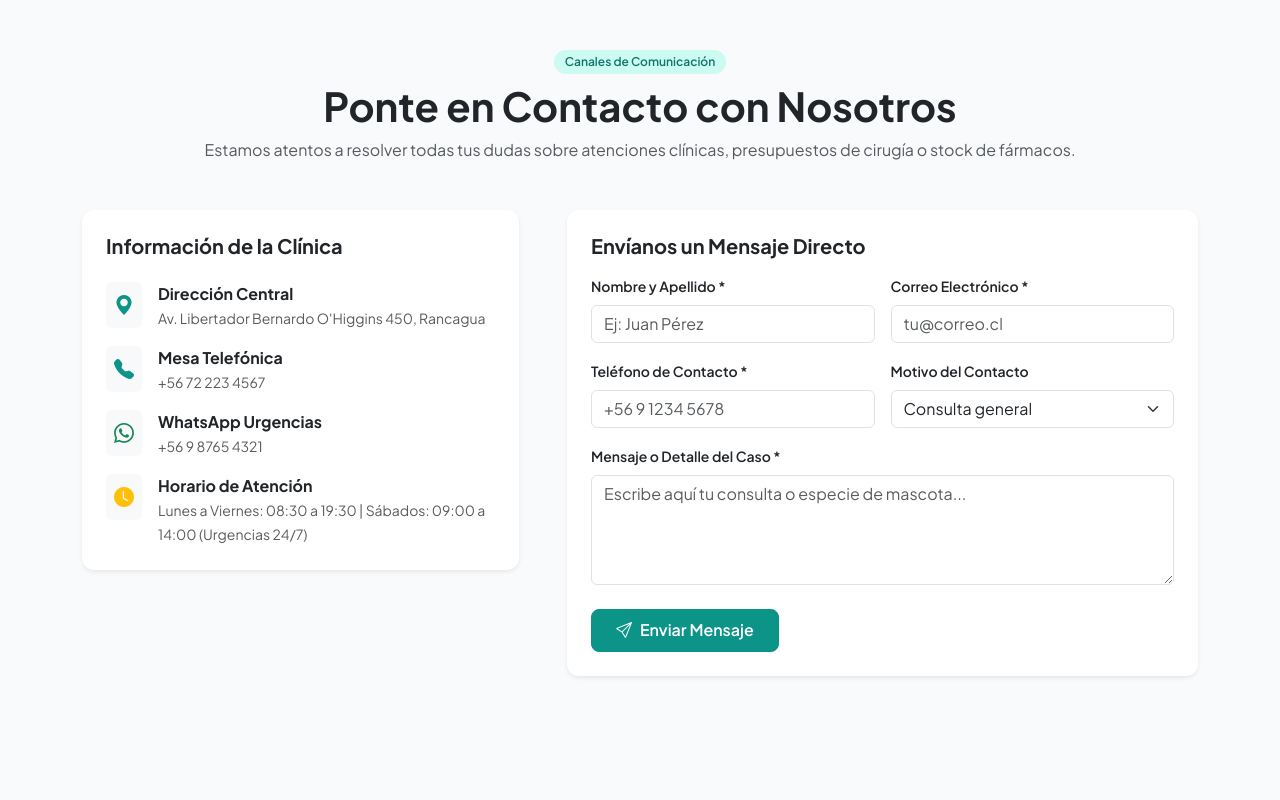
it: Formularios, Validaciones y Eventos › 8. Contact valida longitud mínima del mensaje de consulta
Type "Juan Silva" into the field with placeholder "Ej: Juan Pérez" at [733, 324], box [591, 305, 874, 343]
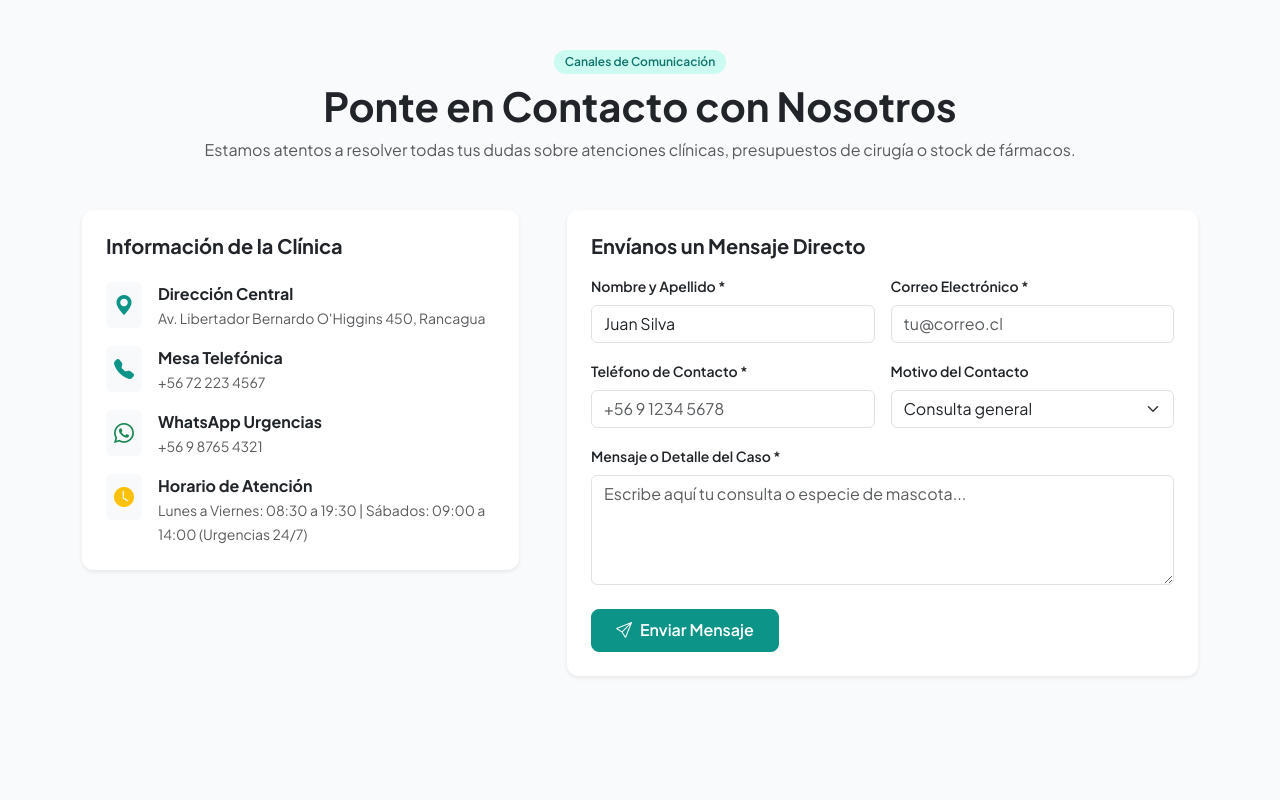
Type "juan@test.cl" into the field with placeholder "tu@correo.cl" at [1032, 324], box [890, 305, 1174, 343]
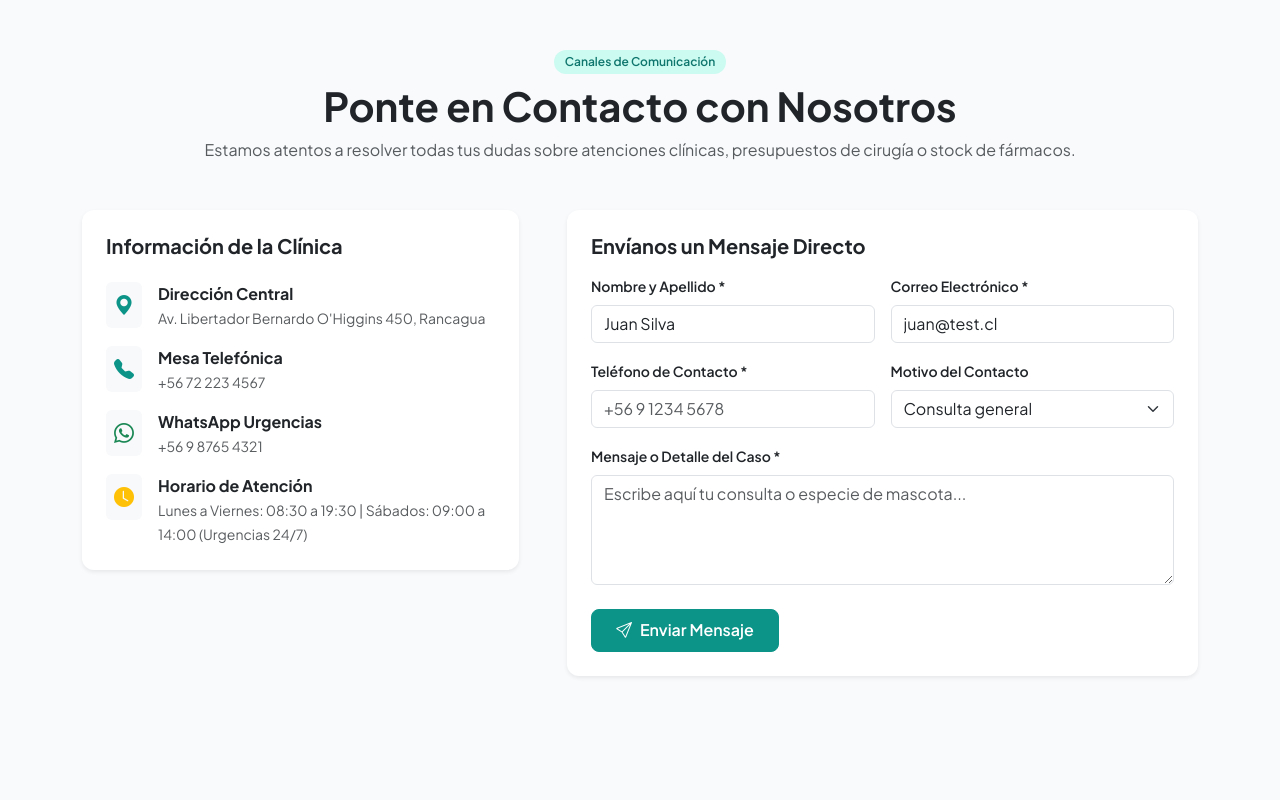
Type "+56911223344" into the field with placeholder "+56 9 1234 5678" at [733, 409], box [591, 390, 874, 428]
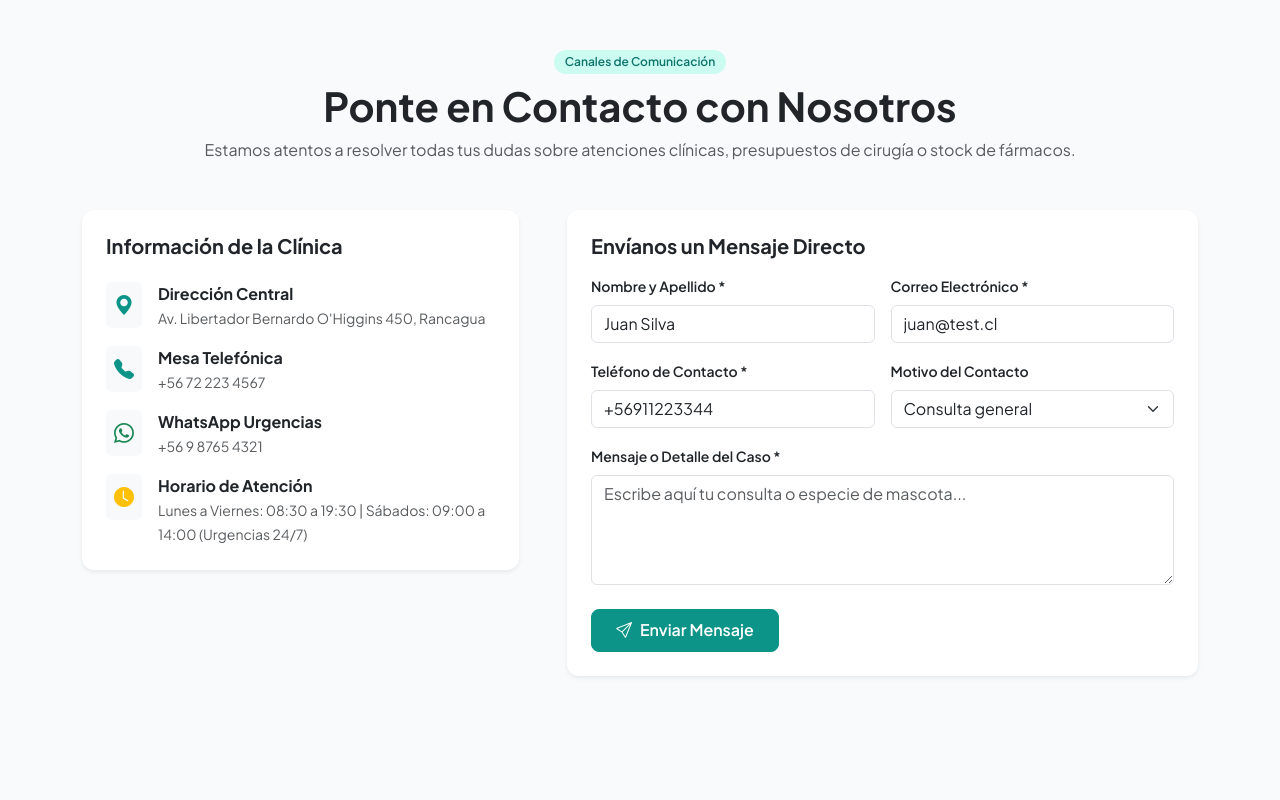
Type "Hola" into the text box with placeholder "Escribe aquí tu consulta o especie de mascota..." at [882, 530], box [591, 475, 1174, 585]
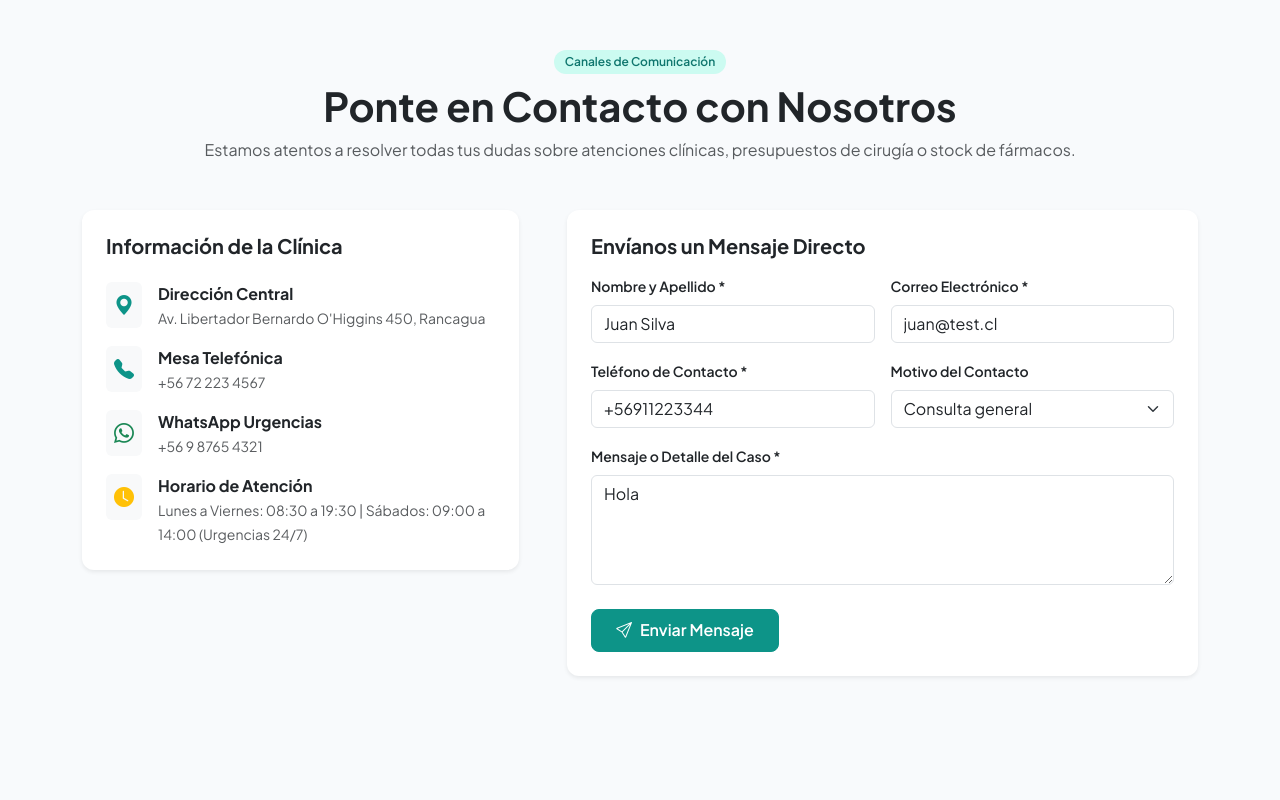
Click the button "Enviar Mensaje" at [685, 630], box [591, 609, 779, 652]
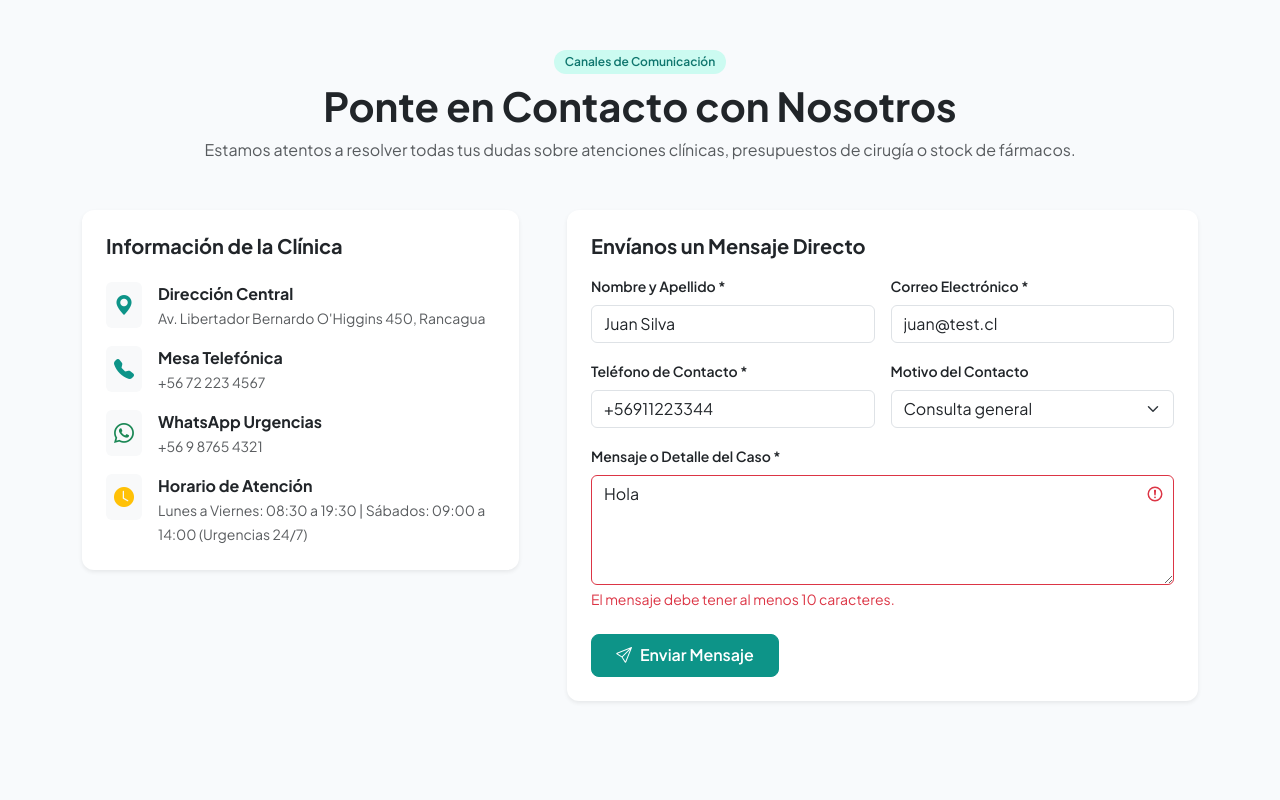
Now the text "El mensaje debe tener al menos 10 caracteres." is shown, box [591, 590, 895, 608]
